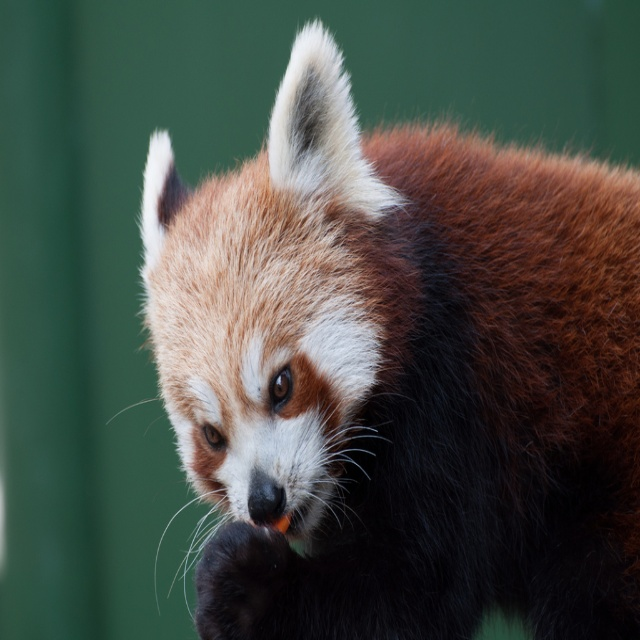Red panda: (105, 17, 640, 639)
